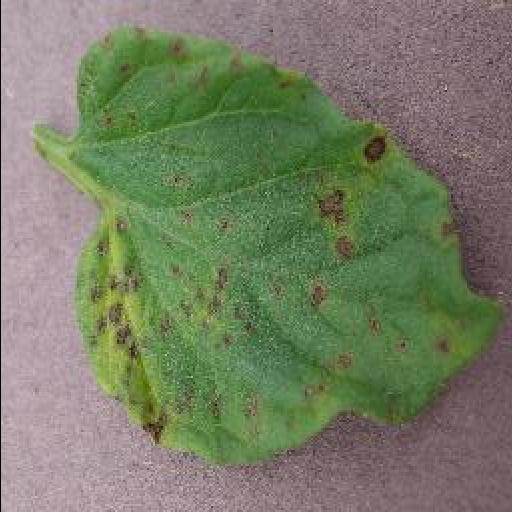disease_tomato: (72, 31, 506, 468)
